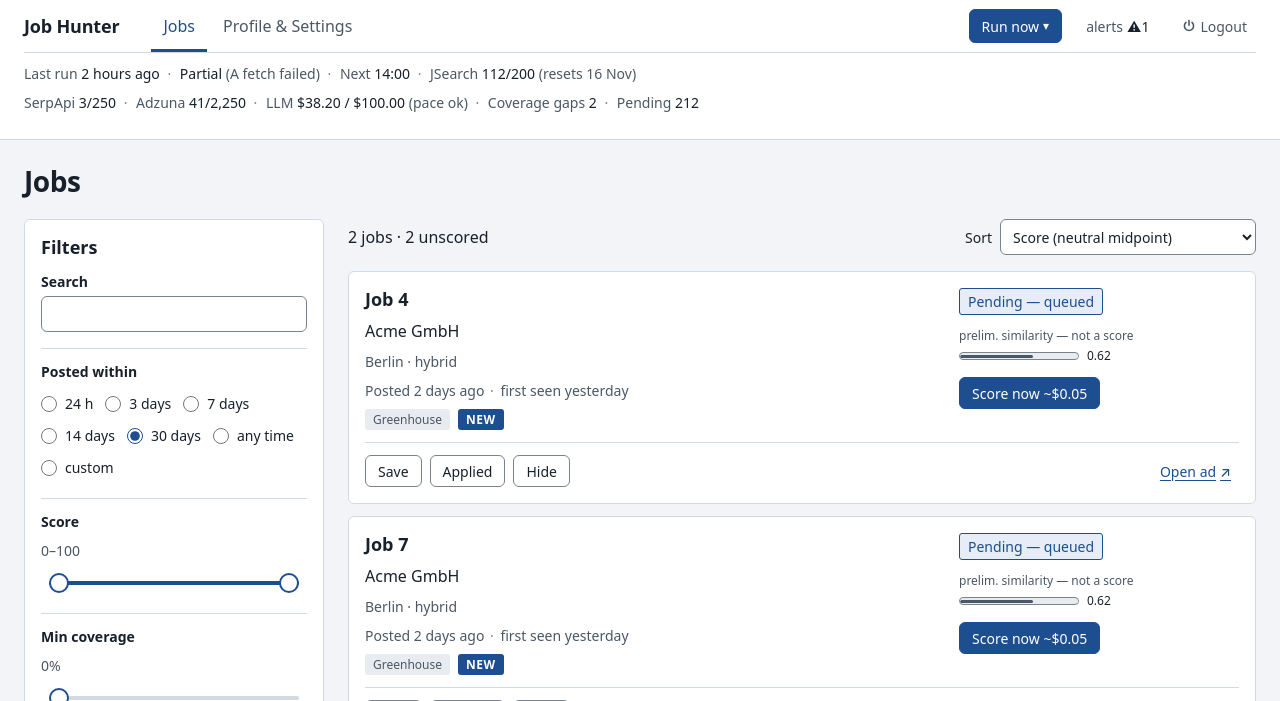
Test: JobsPage › j and k are ignored in the search box
Later steps or results of the test are not shown.
Click the search field labelled "Search" at (174, 314), box [41,296,307,332]
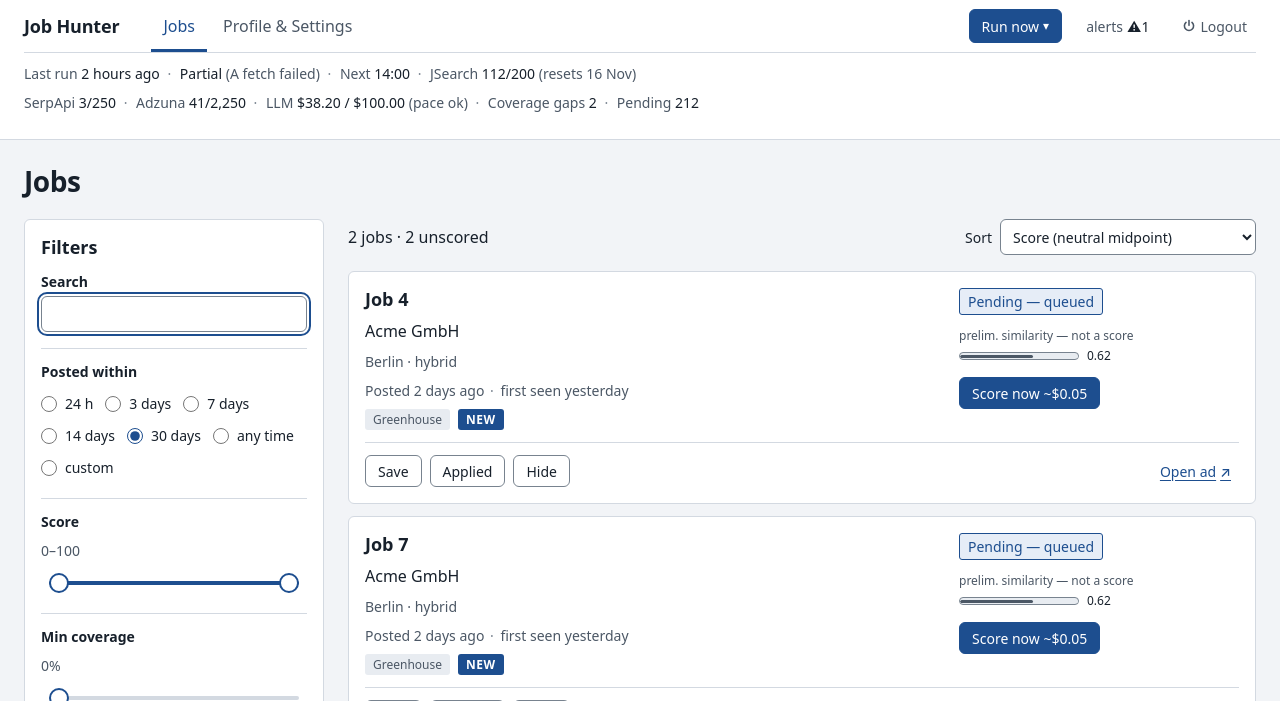
Type keys "jkj"
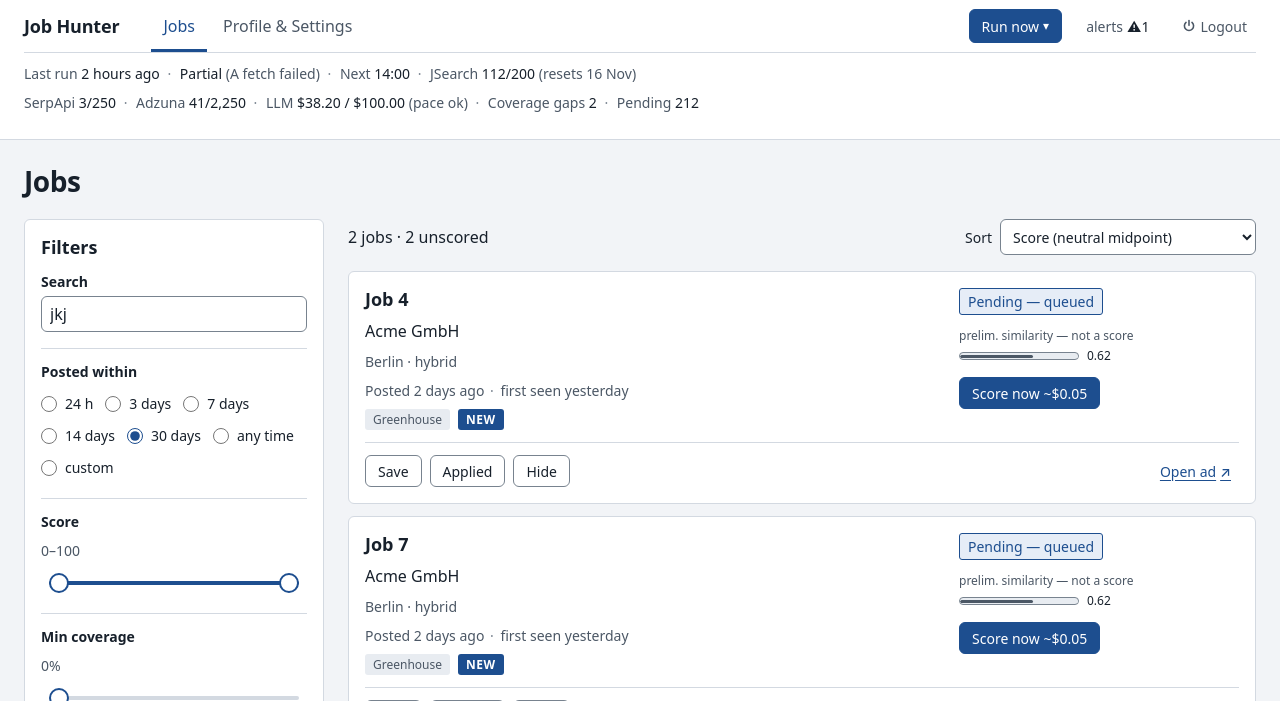
Now the search field labelled "Search" holds "jkj", box [41,296,307,332]
